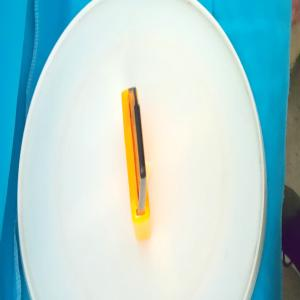serrote: (121, 87, 152, 242)
